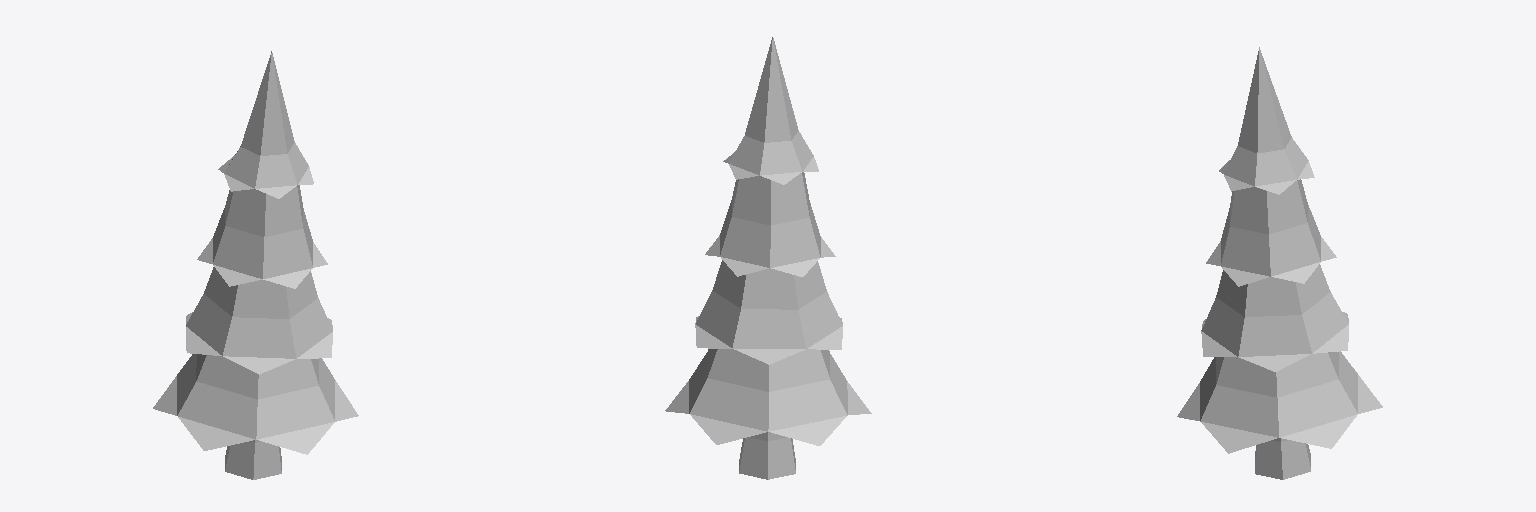
The model's file is Pine_5.obj.
3 views of the same model, side by side, from view 1: azimuth 30°, elevation 25°; view 2: azimuth 150°, elevation 25°; view 3: azimuth 270°, elevation 25° (orthographic).
Parts seen in each view (by area): view 1: Pine_5; view 2: Pine_5; view 3: Pine_5.
Boxes of the visible parts, <box> form: Pine_5: <box>153,51,358,479</box>; Pine_5: <box>665,37,871,479</box>; Pine_5: <box>1177,47,1382,479</box>.
Bounding box in the file's own units: 1.18 × 3.01 × 1.33.